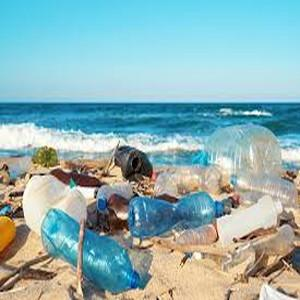Plastic: (43, 206, 140, 292), (129, 193, 225, 235), (228, 168, 300, 203), (174, 224, 216, 247)
